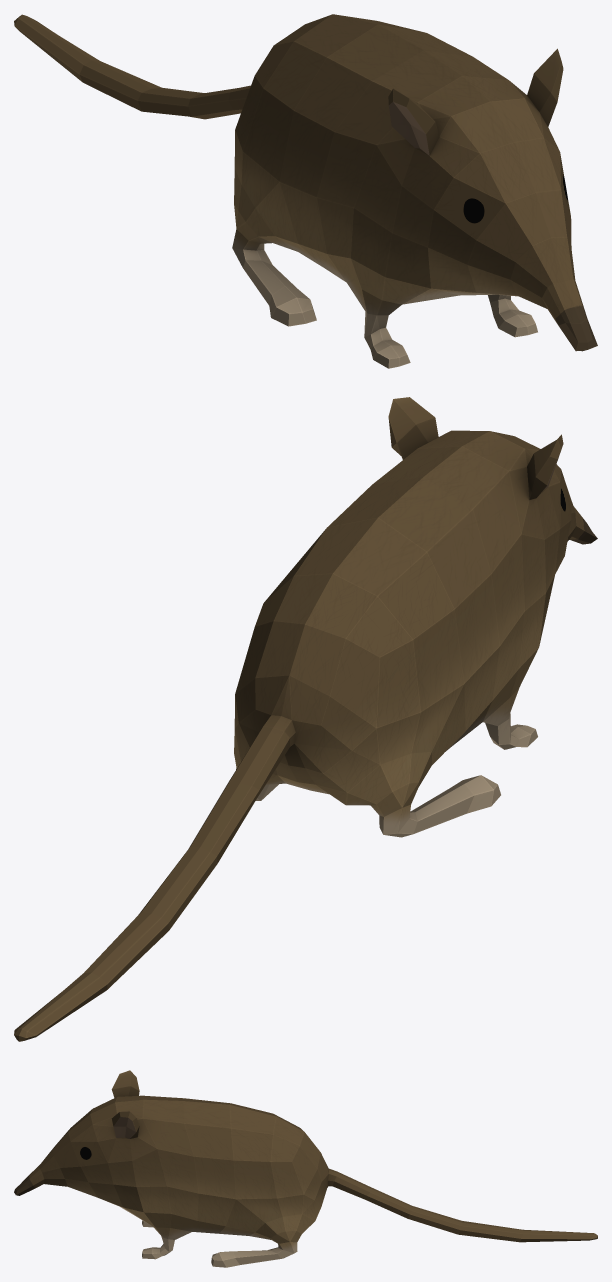
3 renders of one model, top to bottom at view 1: azimuth 30°, elevation 25°; view 2: azimuth 150°, elevation 25°; view 3: azimuth 270°, elevation 25°, orthographic. The views are drawn at different scales.
Parts seen in each view (by area): view 1: DesertShrew_Mesh; view 2: DesertShrew_Mesh; view 3: DesertShrew_Mesh.
Boxes of the visible parts, box(x1,y1,x2,y2) form: DesertShrew_Mesh: box(14, 14, 597, 368); DesertShrew_Mesh: box(14, 397, 597, 1041); DesertShrew_Mesh: box(14, 1070, 597, 1267).
Size of the model in its own units: 0.8207 by 1.04 by 3.67.
1 material, 1 textured.
